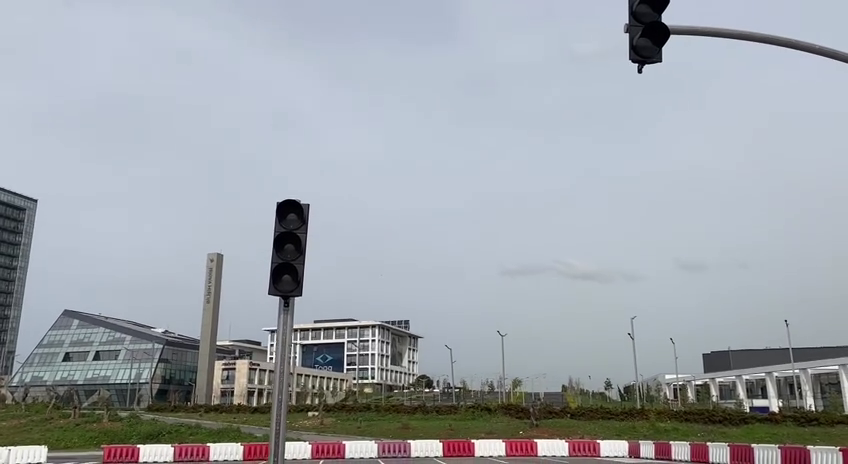trafficLight: (264, 196, 315, 305), (619, 1, 674, 75)
